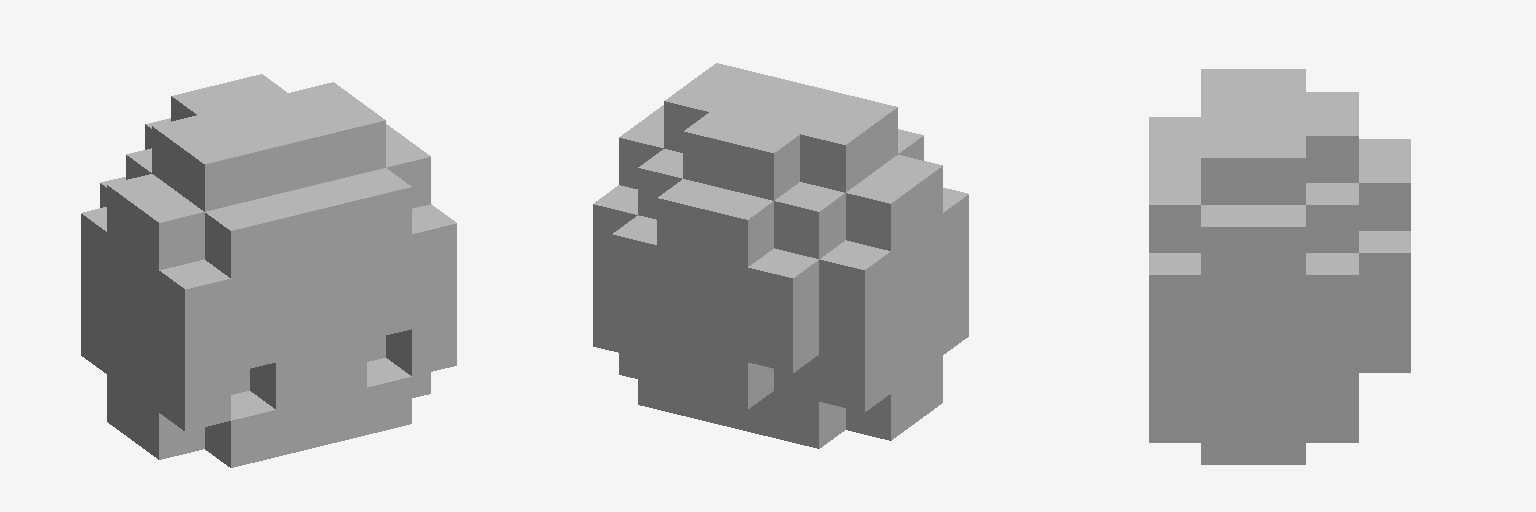
The model's file is Skull.obj.
3 views of the same model, side by side, from view 1: azimuth 30°, elevation 25°; view 2: azimuth 150°, elevation 25°; view 3: azimuth 270°, elevation 25° (orthographic).
Visible parts, largest first — view 1: object 1; view 2: object 1; view 3: object 1.
Part boxes in pixels (x1,y1,x2,y2): object 1: (81,74,456,467); object 1: (593,63,968,448); object 1: (1149,69,1410,464).
Size of the model in its own units: 0.6 by 0.6 by 0.5.